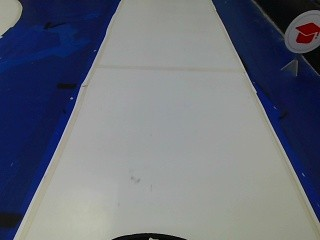school: (281, 10, 318, 52)
